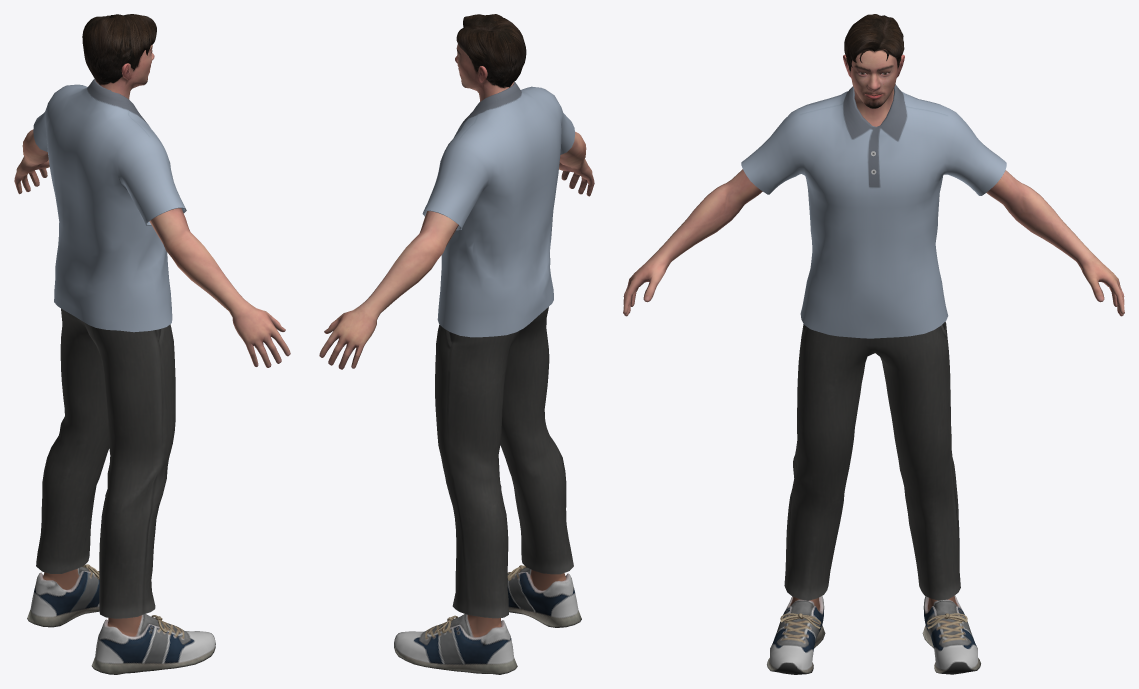
The model's file is sm_middleagedman_web.fbx.
3 renders of one model, left to right at view 1: azimuth 30°, elevation 25°; view 2: azimuth 150°, elevation 25°; view 3: azimuth 270°, elevation 25°, orthographic. The views are drawn at different scales.
Parts seen in each view (by area): view 1: sm_middleagedman_web; view 2: sm_middleagedman_web; view 3: sm_middleagedman_web.
Boxes of the visible parts, <box> form: sm_middleagedman_web: <box>14,14,290,674</box>; sm_middleagedman_web: <box>319,14,594,674</box>; sm_middleagedman_web: <box>623,14,1124,674</box>.
Bounding box in the file's own units: 0.3442 × 1.81 × 1.29.
4 materials, 4 textured.
